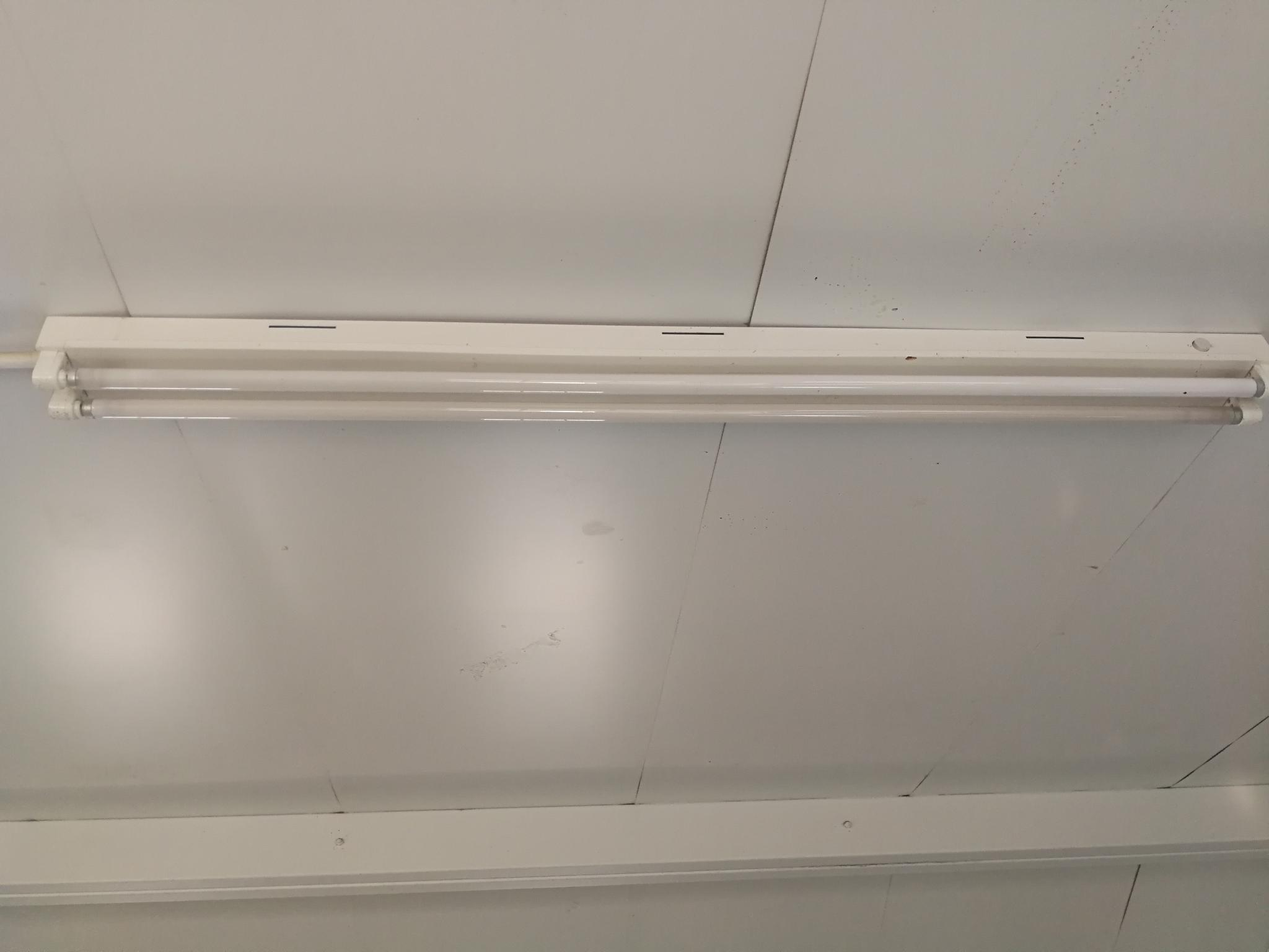light: (30, 315, 1267, 428)
